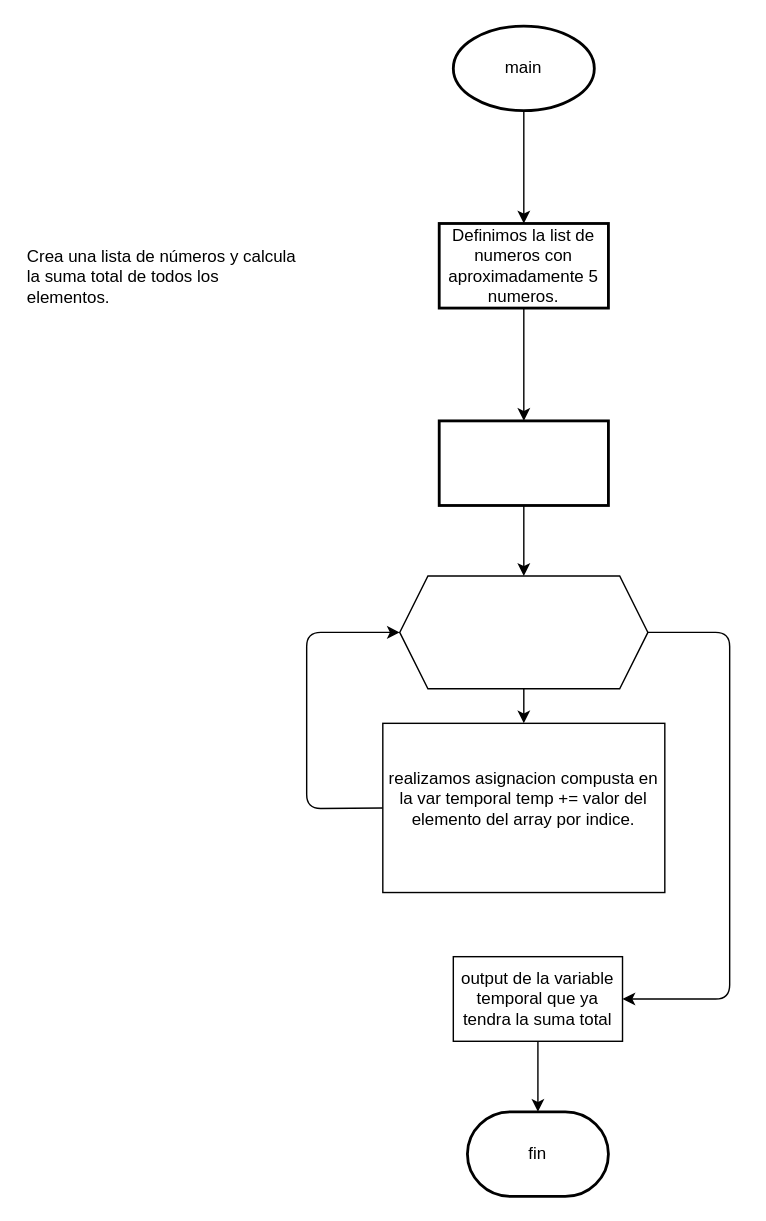
Image size: 766x1221. Some labels were removed from this diagram. Here are the shapes that lost their labels. From the top down, the box of each, then its label:
(437, 419, 609, 506): definimos una variable temporal con el valor de 0. esta ira guardando la suma
(398, 575, 648, 689): desde i = 0; hasta i menor a la longitud de array; incrementar 1
